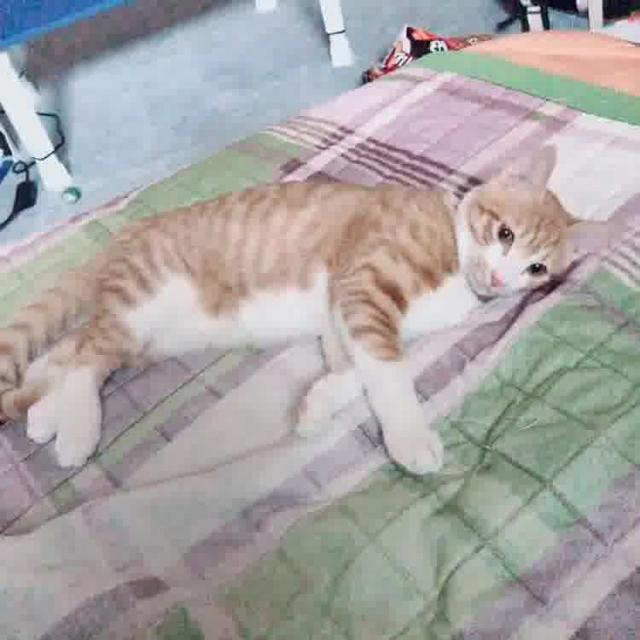cat: (1, 133, 640, 489)
